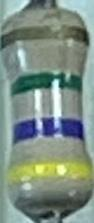Blue: (12, 112, 85, 147)
Green: (9, 68, 83, 95)
Side-Silver: (2, 25, 90, 50)
Yellow: (7, 157, 93, 188)
